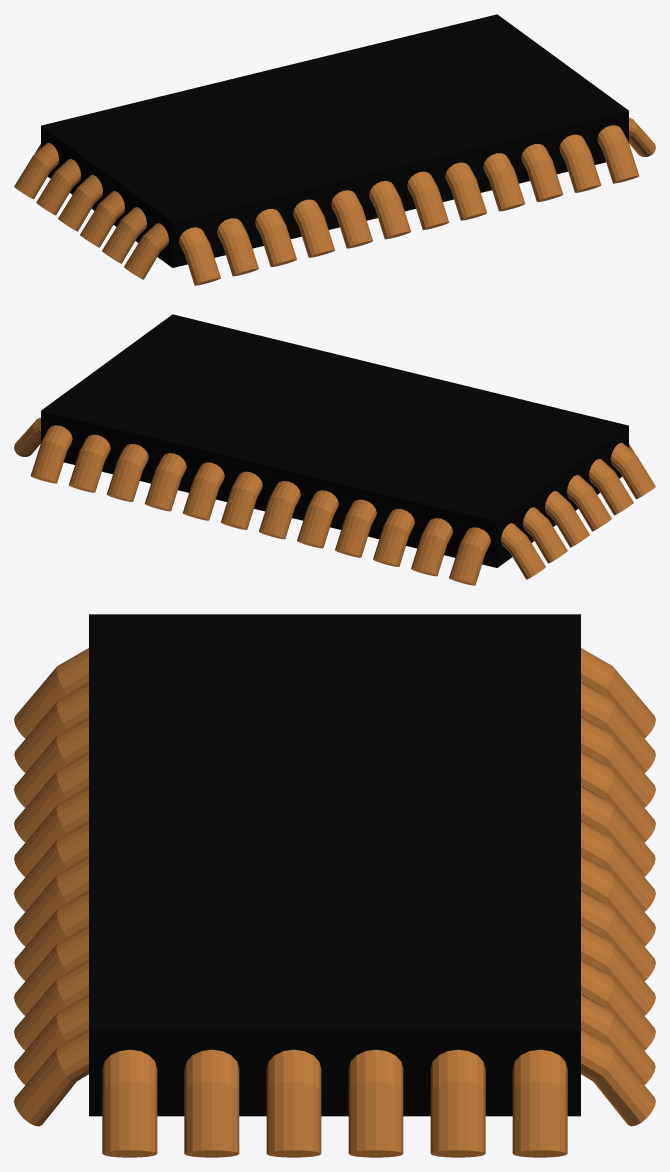
3 views of the same model, one above another, from view 1: azimuth 30°, elevation 25°; view 2: azimuth 150°, elevation 25°; view 3: azimuth 270°, elevation 25° (orthographic). The views are drawn at different scales.
Visible parts, largest first — view 1: IC body, Cylinder.030, Cylinder.033, Cylinder.022, Cylinder.023, Cylinder.020, Cylinder.032, Cylinder.035, Cylinder.018, Cylinder.021, Cylinder.034, Cylinder.031 (+8 smaller); view 2: IC body, Cylinder.029, Cylinder.026, Cylinder.006, Cylinder.027, Cylinder.009, Cylinder.010, Cylinder.008, Cylinder.011, Cylinder.024, Cylinder.028, Cylinder.007 (+8 smaller); view 3: IC body, Cylinder.004, Cylinder.001, Cylinder.002, Cylinder.003, Cylinder, Cylinder.005, Cylinder.006, Cylinder.023, Cylinder.008, Cylinder.030, Cylinder.026 (+19 smaller).
Boxes of the visible parts, x1,y1,x2,y2 form: IC body: (41, 14, 628, 267); Cylinder.030: (179, 227, 220, 285); Cylinder.033: (293, 199, 334, 257); Cylinder.022: (559, 134, 601, 192); Cylinder.023: (597, 125, 639, 183); Cylinder.020: (483, 153, 525, 211); Cylinder.032: (255, 208, 296, 266); Cylinder.035: (369, 181, 410, 239); Cylinder.018: (407, 171, 448, 229); Cylinder.021: (521, 144, 563, 201); Cylinder.034: (331, 190, 372, 248); Cylinder.031: (217, 218, 258, 276); IC body: (41, 314, 628, 567); Cylinder.029: (449, 527, 490, 585); Cylinder.026: (335, 499, 376, 557); Cylinder.006: (30, 425, 72, 483); Cylinder.027: (373, 508, 414, 566); Cylinder.009: (144, 453, 186, 511); Cylinder.010: (183, 462, 224, 520); Cylinder.008: (106, 444, 148, 501); Cylinder.011: (221, 471, 262, 529); Cylinder.024: (259, 481, 300, 539); Cylinder.028: (411, 518, 452, 576); Cylinder.007: (69, 434, 110, 492); IC body: (89, 614, 580, 1116); Cylinder.004: (430, 1049, 485, 1157); Cylinder.001: (184, 1049, 239, 1157); Cylinder.002: (266, 1049, 321, 1157); Cylinder.003: (348, 1049, 403, 1157); Cylinder: (102, 1049, 157, 1157); Cylinder.005: (512, 1049, 567, 1157); Cylinder.006: (581, 1029, 655, 1126); Cylinder.023: (14, 1029, 88, 1126); Cylinder.008: (581, 960, 655, 1050); Cylinder.030: (14, 648, 88, 738); Cylinder.026: (581, 752, 655, 842).
Size of the model in its own units: 138 by 14.53 by 78.24.
